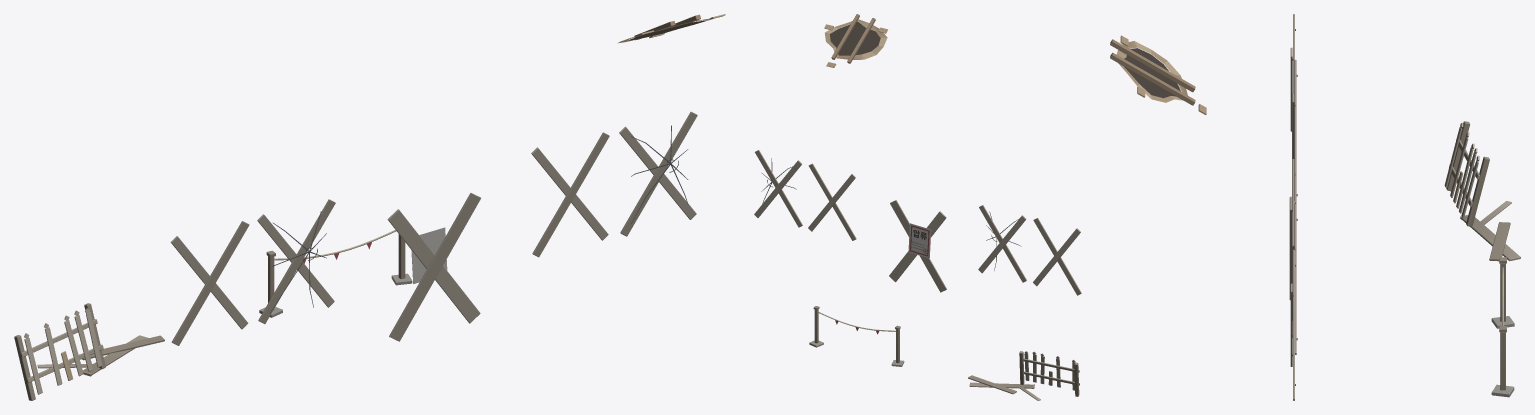
The model's file is house_seized_manor.glb.
3 renders of one model, left to right at view 1: azimuth 30°, elevation 25°; view 2: azimuth 150°, elevation 25°; view 3: azimuth 270°, elevation 25°, orthographic. The views are drawn at different scales.
Size of the model in its own units: 9.65 by 5.77 by 5.3.
